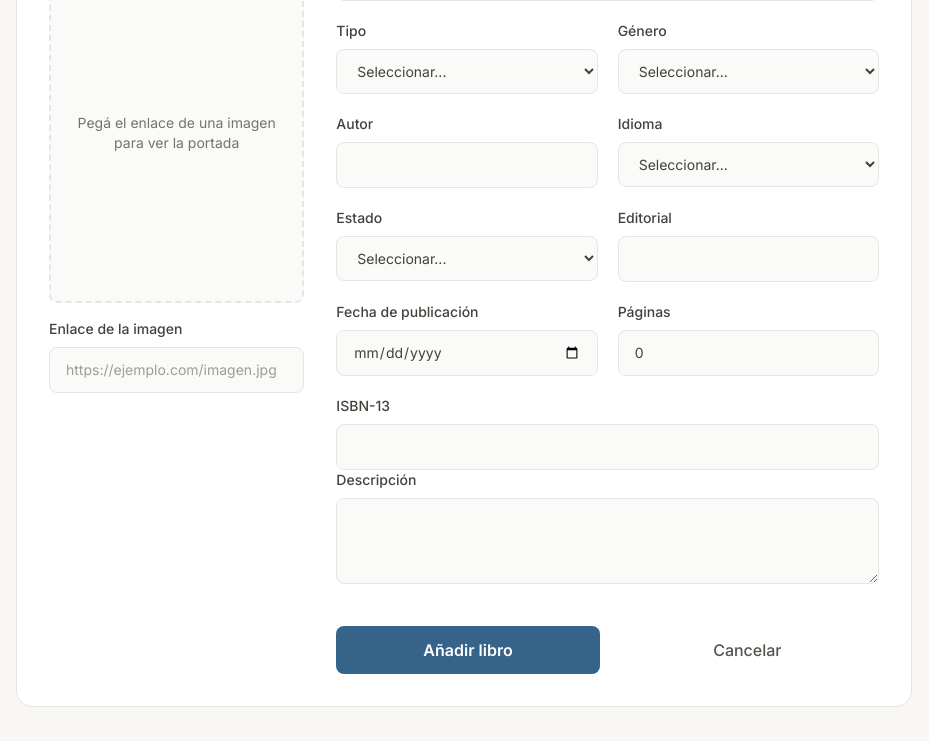
LibroForm - Validaciones de Formulario › al intentar enviar un formulario vacío, se muestran los mensajes de error de validación
The width and height of the screenshot is (929, 741).
(page scrolled)
What coordinates should you click on to do the following:
click the button "Añadir libro"
I would click on:
 (468, 650)
Its box is 336,626 -> 600,674.
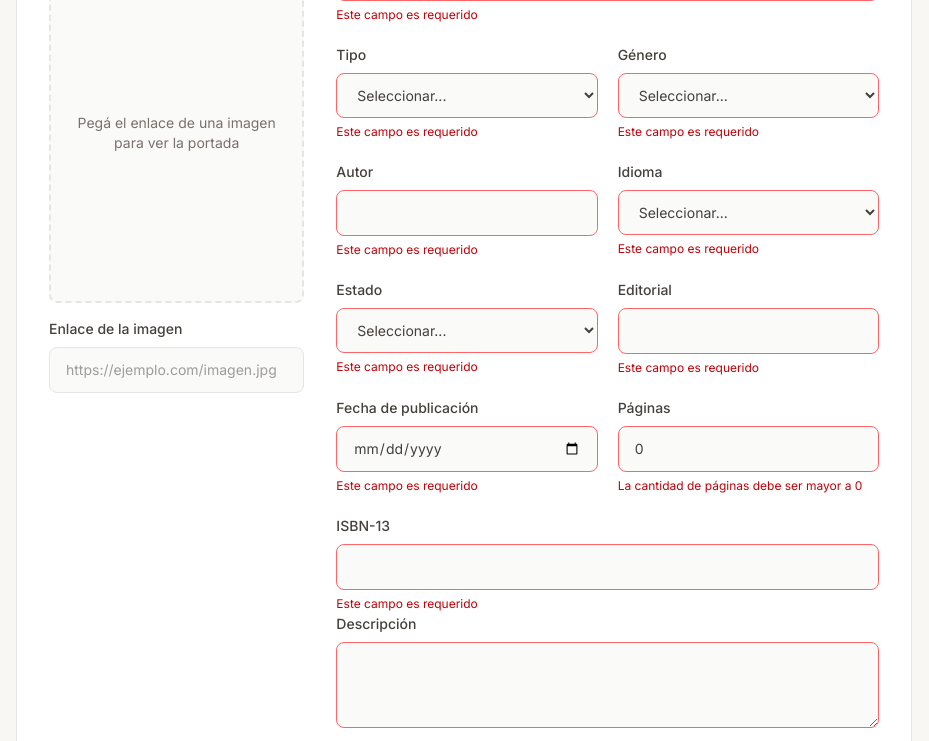
Check: the text "La cantidad de páginas debe ser mayor a 0" is shown, box 618,478 -> 862,493
